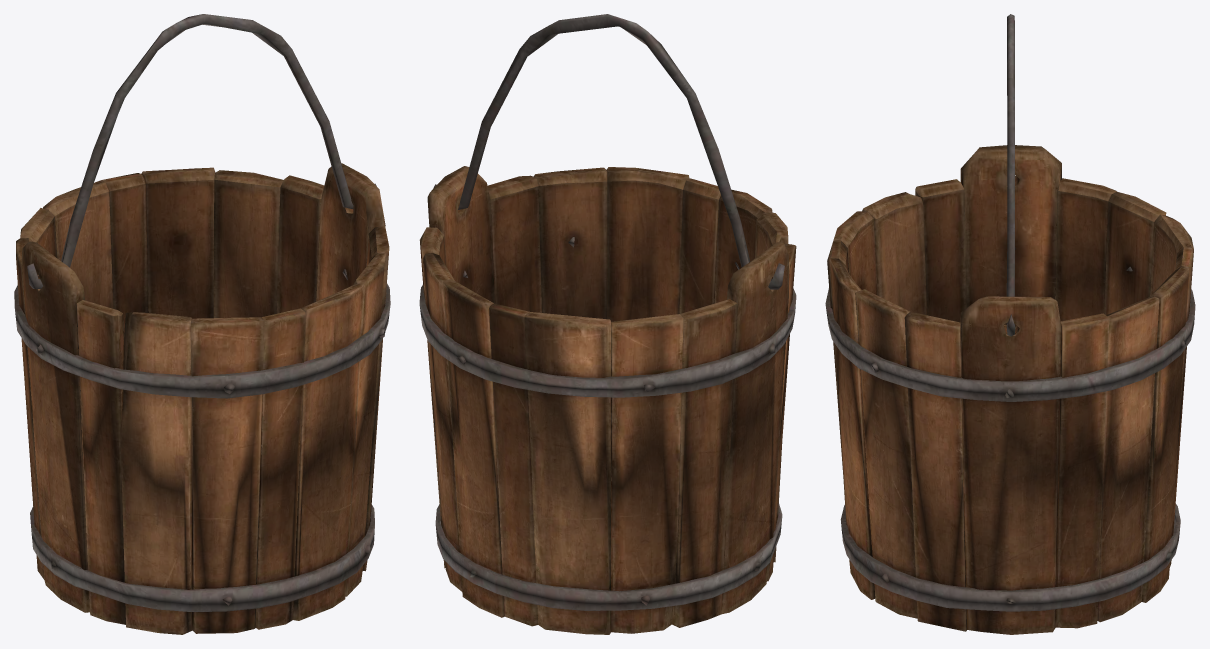
Rendered from wooden_bucket_01.glb.
The picture shows the model from 3 angles, left to right: view 1: azimuth 30°, elevation 25°; view 2: azimuth 150°, elevation 25°; view 3: azimuth 270°, elevation 25°; orthographic projection.
Parts seen in each view (by area): view 1: wooden_bucket_01, wooden_bucket_01_handle; view 2: wooden_bucket_01, wooden_bucket_01_handle; view 3: wooden_bucket_01, wooden_bucket_01_handle.
Boxes of the visible parts, box(x1,y1,x2,y2) form: wooden_bucket_01: box(14, 163, 390, 634); wooden_bucket_01_handle: box(27, 14, 376, 288); wooden_bucket_01: box(419, 166, 796, 634); wooden_bucket_01_handle: box(433, 14, 784, 289); wooden_bucket_01: box(825, 145, 1195, 634); wooden_bucket_01_handle: box(1006, 14, 1015, 336).
Bounding box in the file's own units: 0.3663 × 0.5493 × 0.3406.
Materials: 1 (1 with a texture image).
